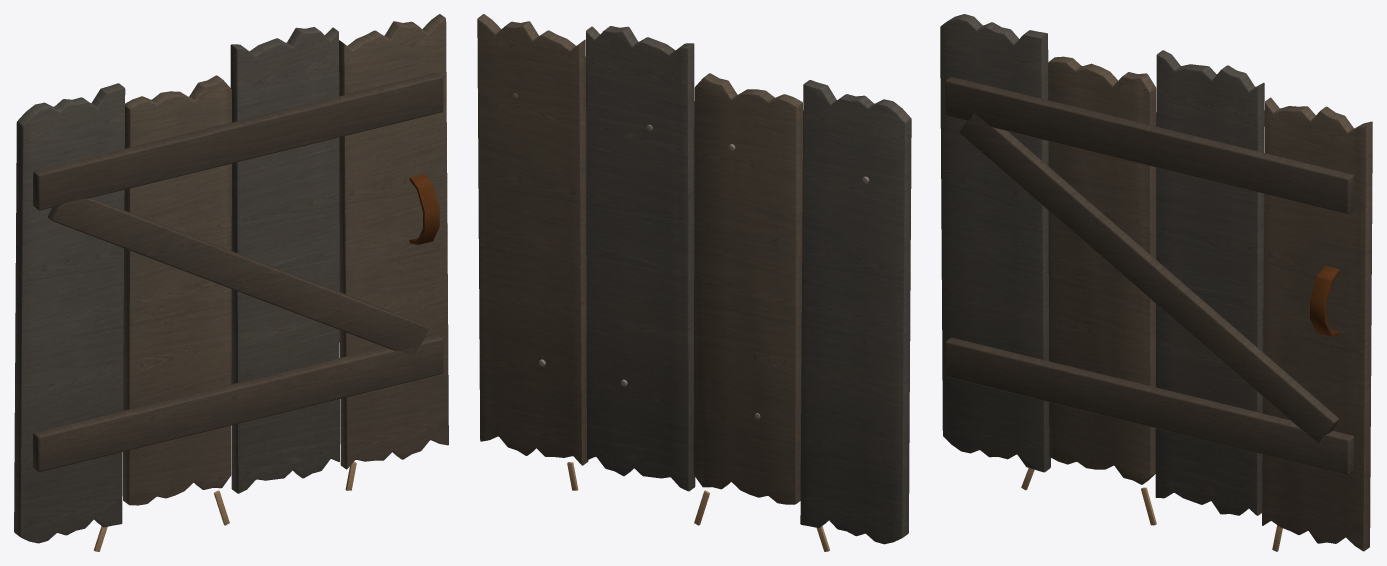
The model's file is panel.glb.
3 views of the same model, side by side, from view 1: azimuth 30°, elevation 25°; view 2: azimuth 150°, elevation 25°; view 3: azimuth 330°, elevation 25° (orthographic).
Parts seen in each view (by area): view 1: body, far; view 2: body, far; view 3: body, far.
Boxes of the visible parts, box(x1,y1,x2,y2) form: body: box(14, 14, 448, 551); far: box(14, 15, 448, 542); body: box(477, 14, 911, 551); far: box(477, 15, 911, 544); body: box(940, 14, 1372, 551); far: box(940, 14, 1372, 550).
Size of the model in its own units: 0.988 by 1.06 by 0.0993.
Materials: 6 (5 with a texture image).
